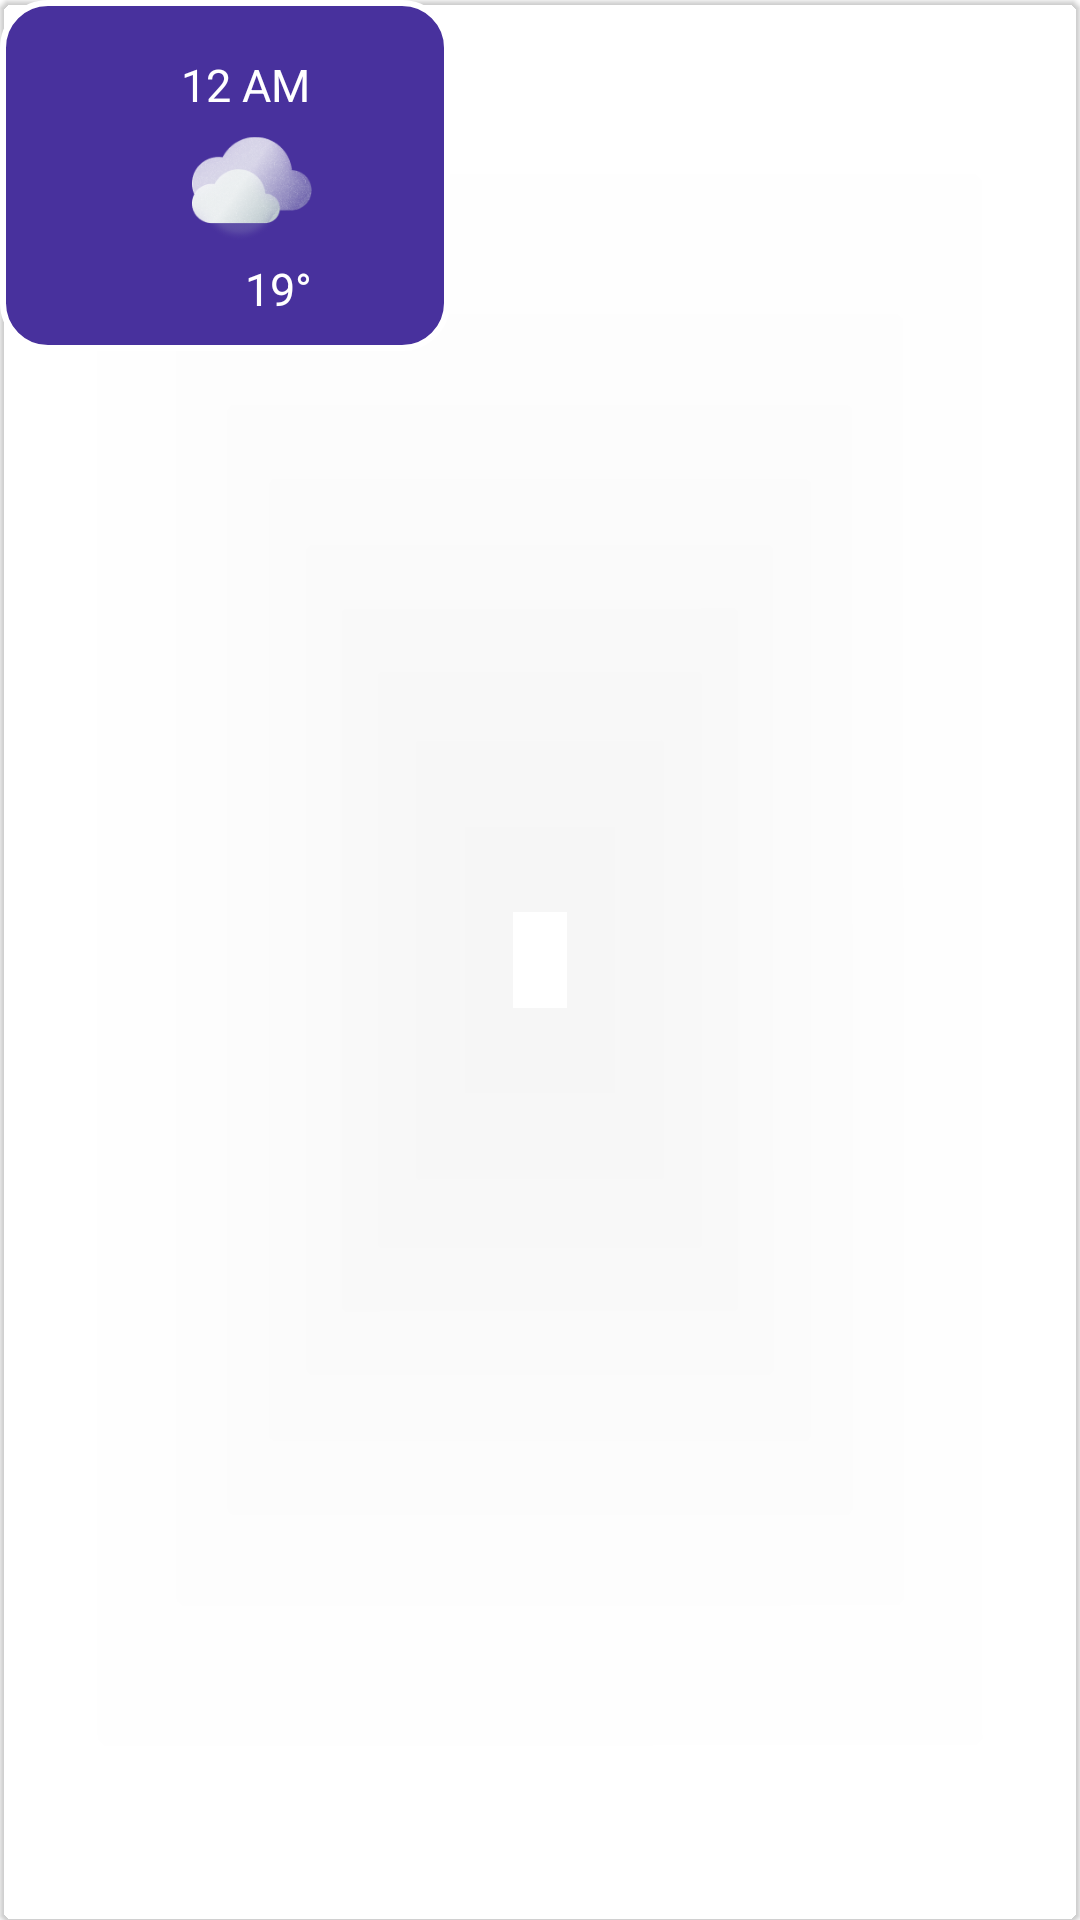

Where to tap for icons on this 1080 x 1920 app screen, as (x=x, y=y):
cloud: (x=252, y=184)
